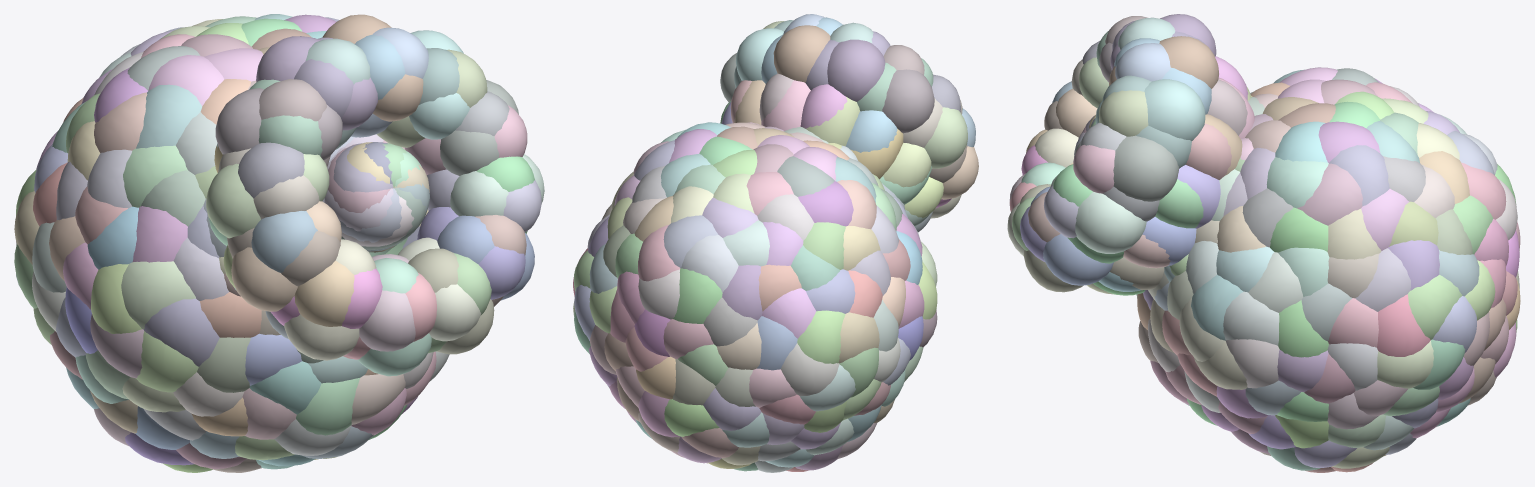
Rendered from bacteriophage_P68_120_draco.glb.
The picture shows the model from 3 angles, left to right: view 1: azimuth 30°, elevation 25°; view 2: azimuth 150°, elevation 25°; view 3: azimuth 270°, elevation 25°; orthographic projection. The views are drawn at different scales.
Parts seen in each view (by area): view 1: 6q3g.cif_OI Gaussian surface, 6q3g.cif_O5 Gaussian surface, 6q3g.cif_OO Gaussian surface, 6q3g.cif_T1 Gaussian surface, 6q3g.cif_ON Gaussian surface, 6q3g.cif_OM Gaussian surface, 6q3g.cif_gL Gaussian surface, 6q3g.cif_YQ Gaussian surface, 6q3g.cif_OH Gaussian surface, 6q3g.cif_N5 Gaussian surface, 6q3g.cif_NN Gaussian surface, 6q3g.cif_OF Gaussian surface (+94 smaller); view 2: 6q3g.cif_OM Gaussian surface, 6q3g.cif_OO Gaussian surface, 6q3g.cif_OF Gaussian surface, 6q3g.cif_LQ Gaussian surface, 6q3g.cif_b6 Gaussian surface, 6q3g.cif_NE Gaussian surface, 6q3g.cif_OI Gaussian surface, 6q3g.cif_T7 Gaussian surface, 6q3g.cif_LG Gaussian surface, 6q3g.cif_EO Gaussian surface, 6q3g.cif_a6 Gaussian surface, 6q3g.cif_LE Gaussian surface (+110 smaller); view 3: 6q3g.cif_O2 Gaussian surface, 6q3g.cif_O9 Gaussian surface, 6q3g.cif_OB Gaussian surface, 6q3g.cif_DL Gaussian surface, 6q3g.cif_D1 Gaussian surface, 6q3g.cif_bG Gaussian surface, 6q3g.cif_OA Gaussian surface, 6q3g.cif_i4 Gaussian surface, 6q3g.cif_jG Gaussian surface, 6q3g.cif_LL Gaussian surface, 6q3g.cif_OF Gaussian surface, 6q3g.cif_iG Gaussian surface (+105 smaller).
Part boxes in pixels (left/top/right/bottom): 6q3g.cif_OI Gaussian surface: left=206, top=154, right=329, bottom=238; 6q3g.cif_O5 Gaussian surface: left=231, top=201, right=341, bottom=311; 6q3g.cif_OO Gaussian surface: left=215, top=88, right=342, bottom=160; 6q3g.cif_T1 Gaussian surface: left=121, top=261, right=195, bottom=329; 6q3g.cif_ON Gaussian surface: left=284, top=239, right=376, bottom=360; 6q3g.cif_OM Gaussian surface: left=256, top=36, right=377, bottom=130; 6q3g.cif_gL Gaussian surface: left=143, top=298, right=219, bottom=366; 6q3g.cif_YQ Gaussian surface: left=136, top=84, right=202, bottom=148; 6q3g.cif_OH Gaussian surface: left=358, top=258, right=431, bottom=376; 6q3g.cif_N5 Gaussian surface: left=251, top=211, right=341, bottom=272; 6q3g.cif_NN Gaussian surface: left=294, top=260, right=354, bottom=326; 6q3g.cif_OF Gaussian surface: left=322, top=14, right=423, bottom=121; 6q3g.cif_OM Gaussian surface: left=827, top=39, right=885, bottom=101; 6q3g.cif_OO Gaussian surface: left=882, top=69, right=934, bottom=133; 6q3g.cif_OF Gaussian surface: left=773, top=25, right=830, bottom=82; 6q3g.cif_LQ Gaussian surface: left=681, top=235, right=738, bottom=292; 6q3g.cif_b6 Gaussian surface: left=673, top=268, right=722, bottom=323; 6q3g.cif_NE Gaussian surface: left=797, top=310, right=845, bottom=363; 6q3g.cif_OI Gaussian surface: left=924, top=107, right=967, bottom=168; 6q3g.cif_T7 Gaussian surface: left=780, top=343, right=839, bottom=396; 6q3g.cif_LG Gaussian surface: left=798, top=181, right=853, bottom=226; 6q3g.cif_EO Gaussian surface: left=845, top=110, right=897, bottom=152; 6q3g.cif_a6 Gaussian surface: left=722, top=265, right=762, bottom=320; 6q3g.cif_LE Gaussian surface: left=762, top=288, right=816, bottom=338; 6q3g.cif_O2 Gaussian surface: left=1074, top=135, right=1178, bottom=201; 6q3g.cif_O9 Gaussian surface: left=1050, top=175, right=1146, bottom=253; 6q3g.cif_OB Gaussian surface: left=1095, top=79, right=1205, bottom=140; 6q3g.cif_DL Gaussian surface: left=1297, top=163, right=1362, bottom=225; 6q3g.cif_D1 Gaussian surface: left=1377, top=294, right=1430, bottom=356; 6q3g.cif_bG Gaussian surface: left=1223, top=291, right=1279, bottom=345; 6q3g.cif_OA Gaussian surface: left=1030, top=186, right=1113, bottom=285; 6q3g.cif_i4 Gaussian surface: left=1266, top=157, right=1328, bottom=208; 6q3g.cif_jG Gaussian surface: left=1407, top=275, right=1462, bottom=339; 6q3g.cif_LL Gaussian surface: left=1329, top=145, right=1389, bottom=206; 6q3g.cif_OF Gaussian surface: left=1109, top=36, right=1218, bottom=88; 6q3g.cif_iG Gaussian surface: left=1355, top=248, right=1410, bottom=311.
Bounding box in the file's own units: 543 × 646 × 725.
